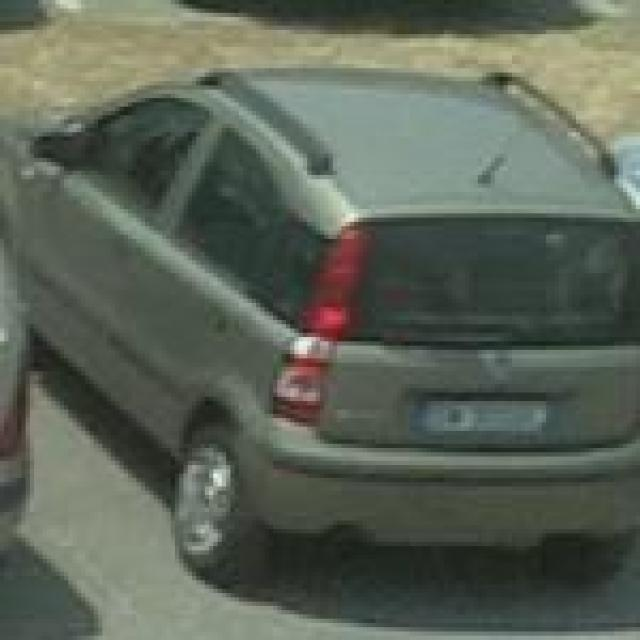cars-sUYr: (0, 27, 640, 604)
